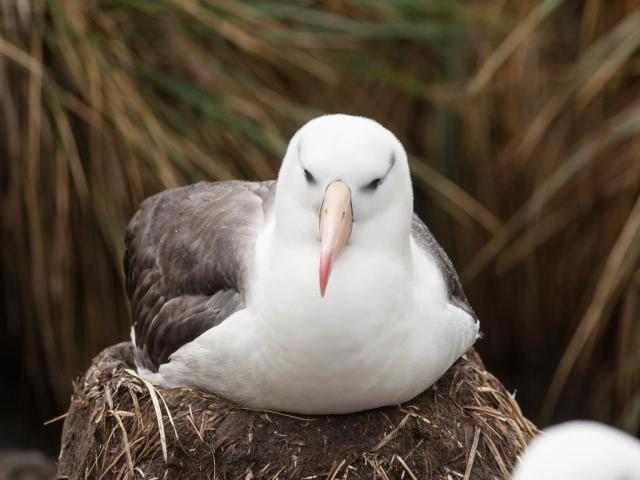Bird: (120, 110, 484, 420), (508, 421, 640, 480)
